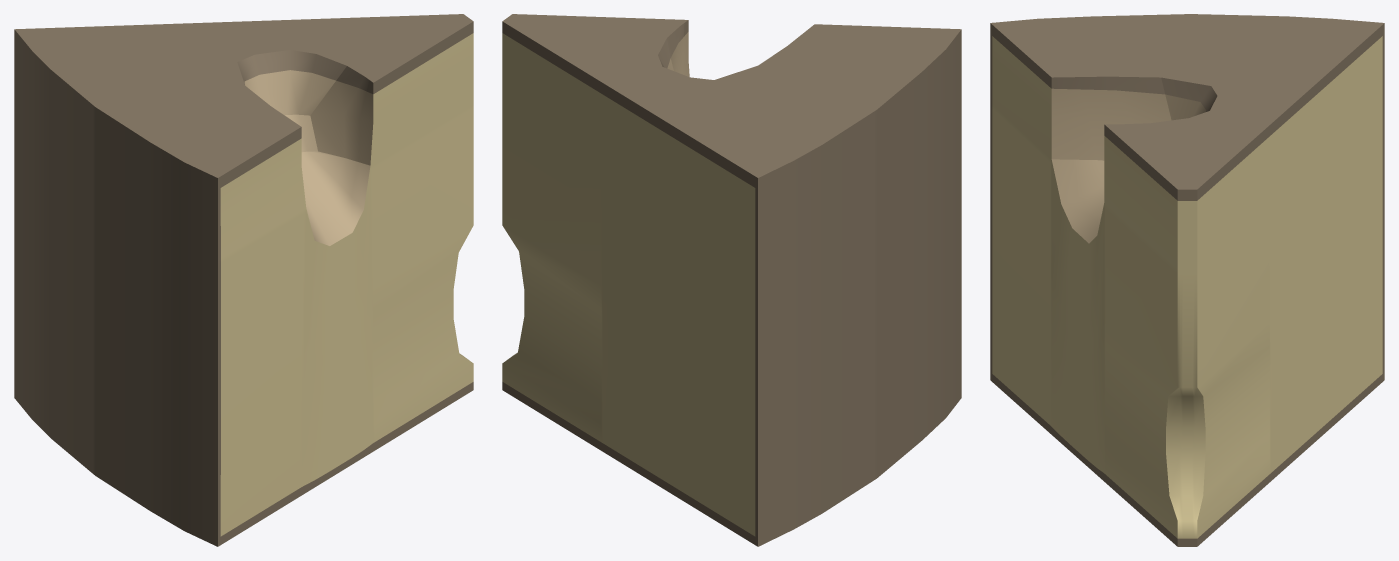
The model's file is Cheese_slice.fbx.
3 views of the same model, side by side, from view 1: azimuth 30°, elevation 25°; view 2: azimuth 150°, elevation 25°; view 3: azimuth 270°, elevation 25° (orthographic). The views are drawn at different scales.
Visible parts, largest first — view 1: cheese_slice; view 2: cheese_slice; view 3: cheese_slice.
Boxes of the visible parts, x1,y1,x2,y2 form: cheese_slice: (14, 14, 473, 546); cheese_slice: (502, 14, 961, 546); cheese_slice: (990, 14, 1384, 546).
Bounding box in the file's own units: 369 × 350 × 350.
